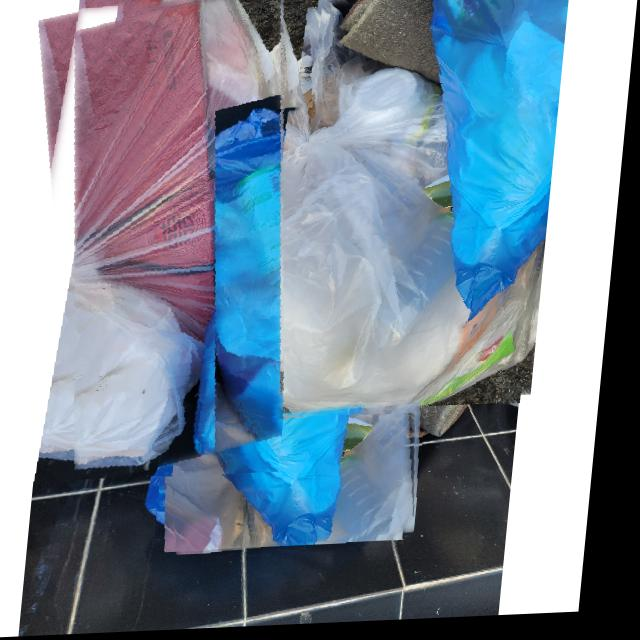other_trashbag: (260, 0, 569, 420), (179, 101, 424, 556), (68, 0, 291, 481)
